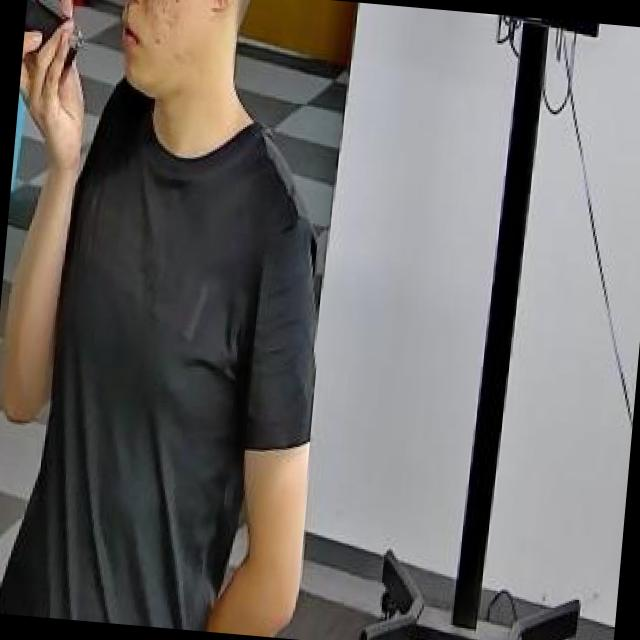Guns: (14, 0, 101, 153)
